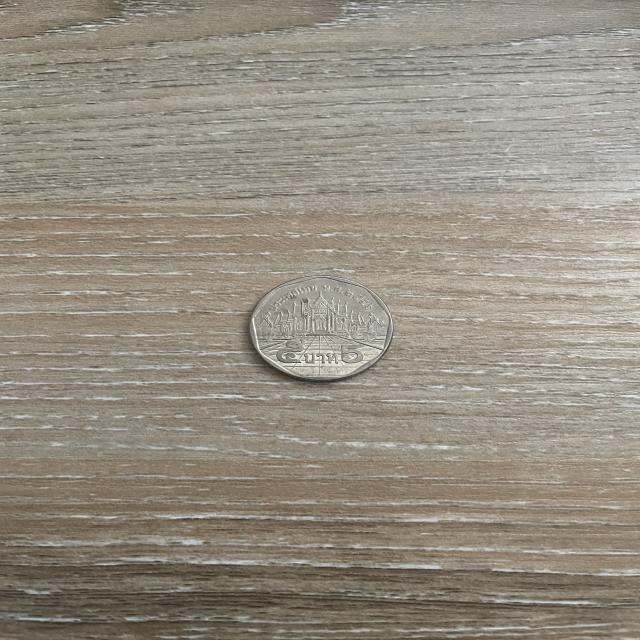5 Bath: (238, 271, 405, 391)
